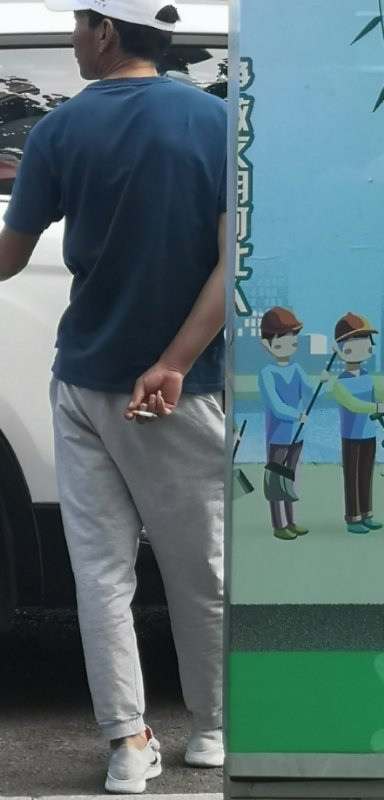smoke: (136, 410, 158, 423)
